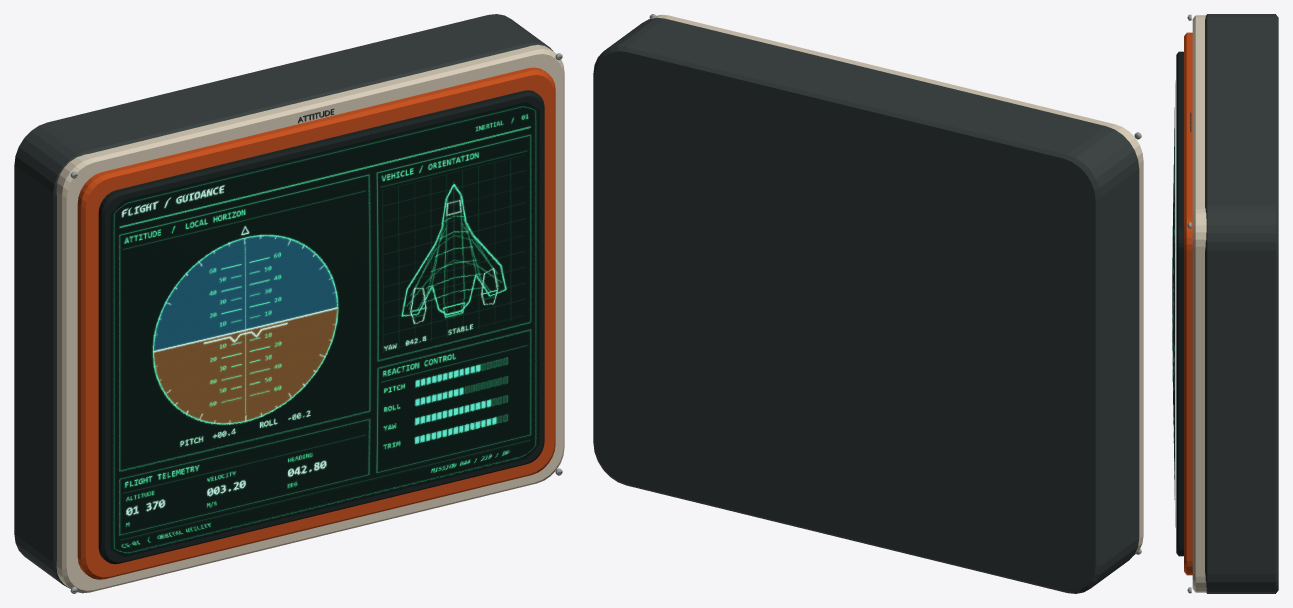
Rendered from Screen_ATTITUDE.glb.
3 renders of one model, left to right at view 1: azimuth 30°, elevation 25°; view 2: azimuth 150°, elevation 25°; view 3: azimuth 270°, elevation 25°, orthographic. The views are drawn at different scales.
Visible parts, largest first — view 1: SCREEN_ATTITUDE.004, ATTITUDE_Body.004, ATTITUDE_SafetyOrange.004, ATTITUDE_Enamel.004, ATTITUDE_RubberSeal.004; view 2: ATTITUDE_Body.004, ATTITUDE_Enamel.004; view 3: ATTITUDE_Body.004, ATTITUDE_Enamel.004, ATTITUDE_SafetyOrange.004, ATTITUDE_RubberSeal.004, SCREEN_ATTITUDE.004.
Part boxes in pixels (x1,y1,x2,y2): SCREEN_ATTITUDE.004: (110,102,539,557); ATTITUDE_Body.004: (14,14,552,588); ATTITUDE_SafetyOrange.004: (77,67,555,579); ATTITUDE_Enamel.004: (56,44,564,593); ATTITUDE_RubberSeal.004: (98,90,544,564); ATTITUDE_Body.004: (593,17,1139,593); ATTITUDE_Enamel.004: (650,14,1143,555); ATTITUDE_Body.004: (1205,14,1278,593); ATTITUDE_Enamel.004: (1192,15,1206,592); ATTITUDE_SafetyOrange.004: (1184,32,1192,575); ATTITUDE_RubberSeal.004: (1176,51,1183,556); SCREEN_ATTITUDE.004: (1172,80,1175,527).
Bounding box in the file's own units: 0.691 × 0.571 × 0.143.
Materials: 7 (1 with a texture image).
